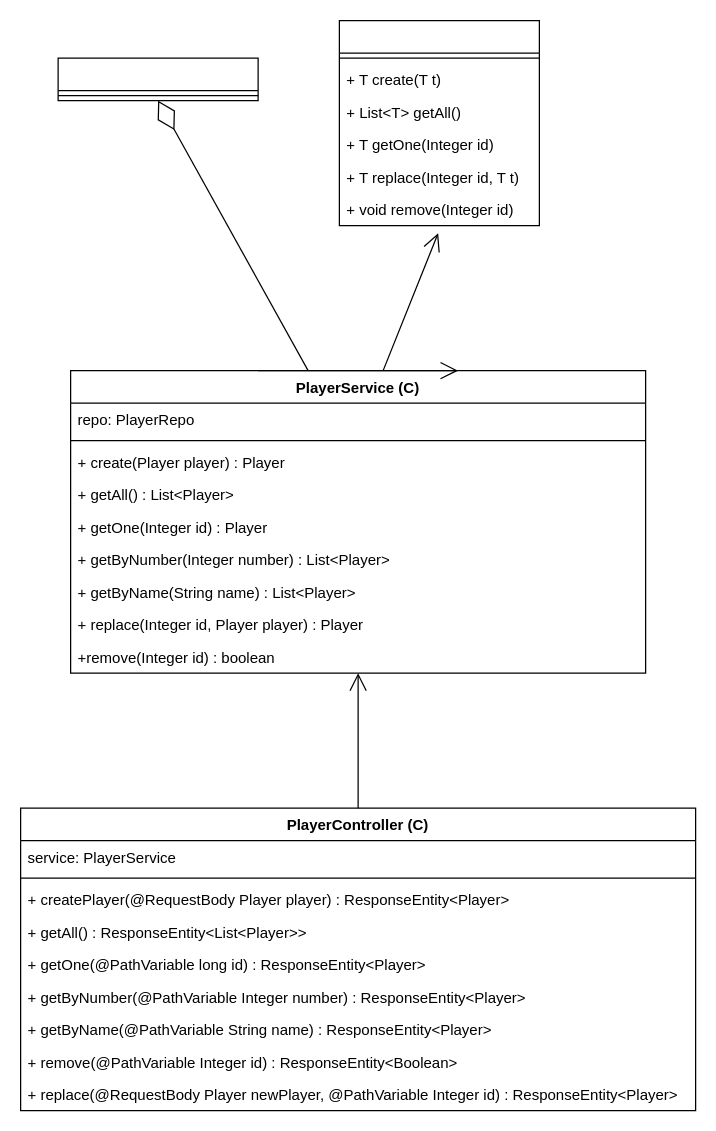
Image size: 716x1131. Some labels were removed from this diagram. Here are the shapes that lost their labels. From the top down, the box of each, then its label:
(57, 57, 258, 101): PlayerRepo (I)
(338, 19, 539, 226): ServiceIF (I)
